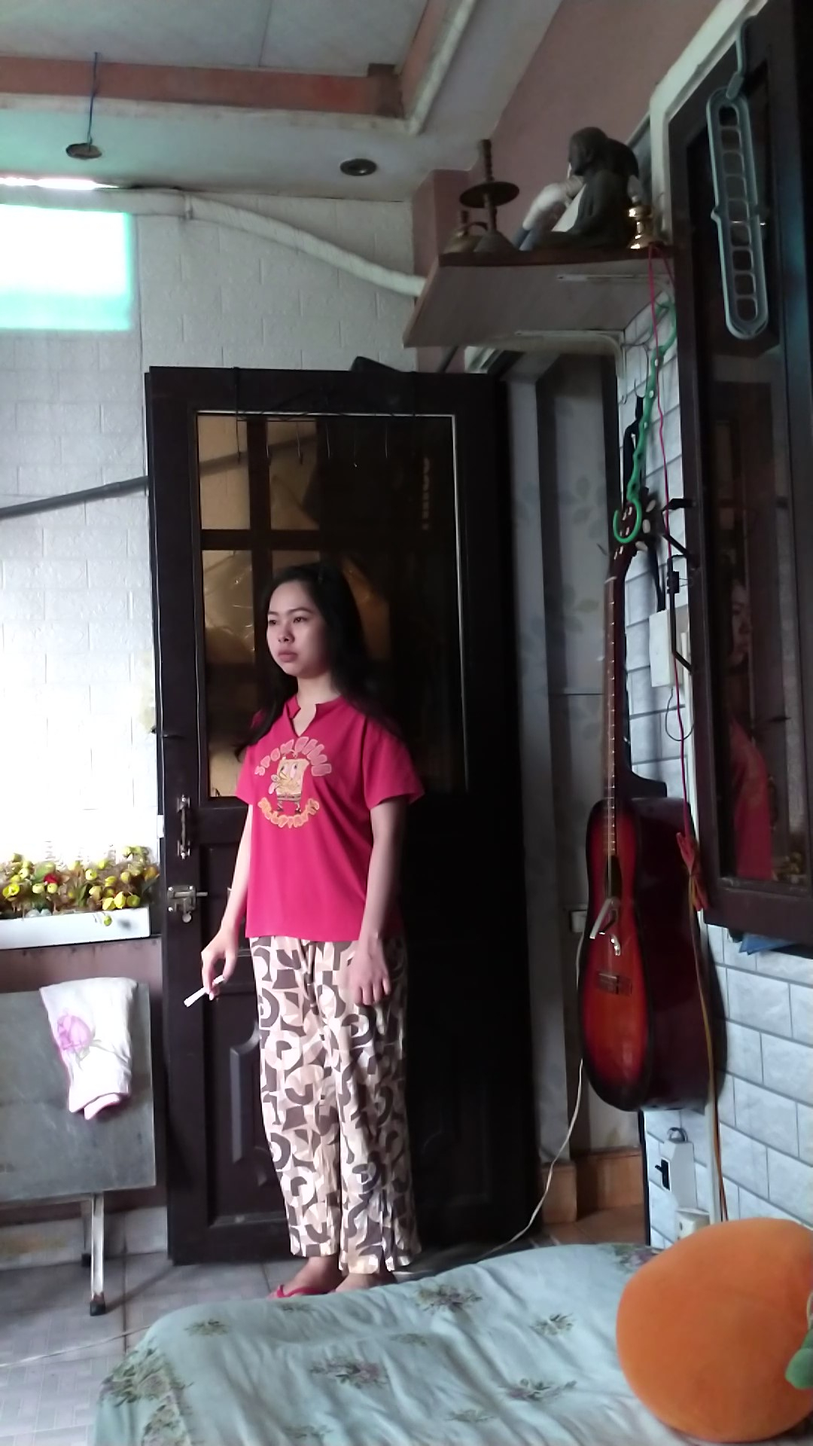cigarette: (178, 984, 210, 1012)
person: (198, 550, 424, 1280)
